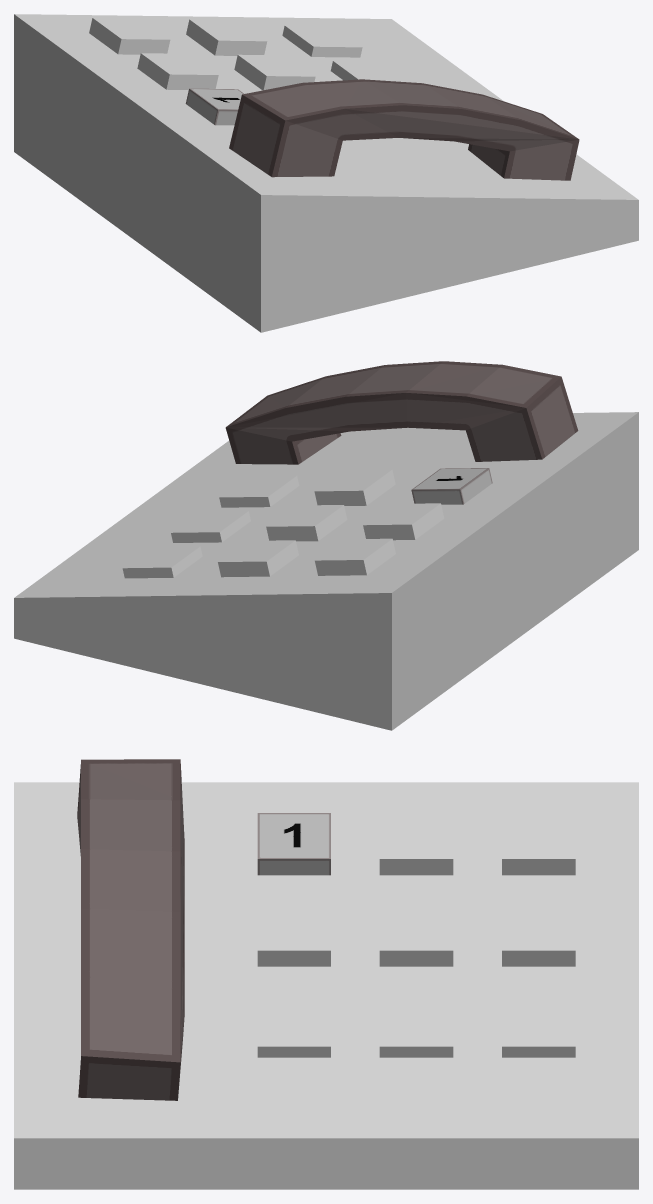
The model's file is Phone.FBX.
3 views of the same model, one above another, from view 1: azimuth 30°, elevation 25°; view 2: azimuth 150°, elevation 25°; view 3: azimuth 270°, elevation 25° (orthographic). The views are drawn at different scales.
Parts seen in each view (by area): view 1: Holder, Phone, Box003, Box002, Box006, Box005, Box009, Box001, Box008; view 2: Holder, Phone, Box003, Box006, Box001, Box002, Box005, Box004, Box009, Box007, Box008; view 3: Holder, Phone, Box002, Box005, Box003, Box006, Box001, Box004, Box008, Box009, Box007.
Part boxes in pixels (bbox=[...]): Holder: bbox=[14, 14, 638, 332]; Phone: bbox=[229, 79, 579, 180]; Box003: bbox=[89, 17, 170, 54]; Box002: bbox=[137, 53, 218, 89]; Box006: bbox=[186, 19, 267, 55]; Box005: bbox=[234, 54, 315, 90]; Box009: bbox=[282, 25, 362, 57]; Box001: bbox=[185, 88, 243, 125]; Box008: bbox=[330, 61, 409, 82]; Holder: bbox=[14, 412, 638, 730]; Phone: bbox=[225, 361, 578, 464]; Box003: bbox=[314, 538, 395, 575]; Box006: bbox=[218, 540, 298, 577]; Box001: bbox=[411, 468, 492, 504]; Box002: bbox=[363, 503, 444, 540]; Box005: bbox=[266, 505, 347, 541]; Box004: bbox=[314, 469, 395, 505]; Box009: bbox=[122, 546, 202, 578]; Box007: bbox=[219, 475, 299, 507]; Box008: bbox=[171, 511, 250, 542]; Holder: bbox=[14, 782, 638, 1189]; Phone: bbox=[77, 759, 184, 1100]; Box002: bbox=[379, 813, 453, 875]; Box005: bbox=[379, 904, 453, 966]; Box003: bbox=[502, 813, 575, 875]; Box006: bbox=[502, 904, 575, 966]; Box001: bbox=[257, 813, 330, 875]; Box004: bbox=[257, 904, 330, 966]; Box008: bbox=[379, 1000, 453, 1057]; Box009: bbox=[502, 1000, 575, 1057]; Box007: bbox=[257, 1000, 330, 1057].
Size of the model in its own units: 71.08 by 32.43 by 80.5.
